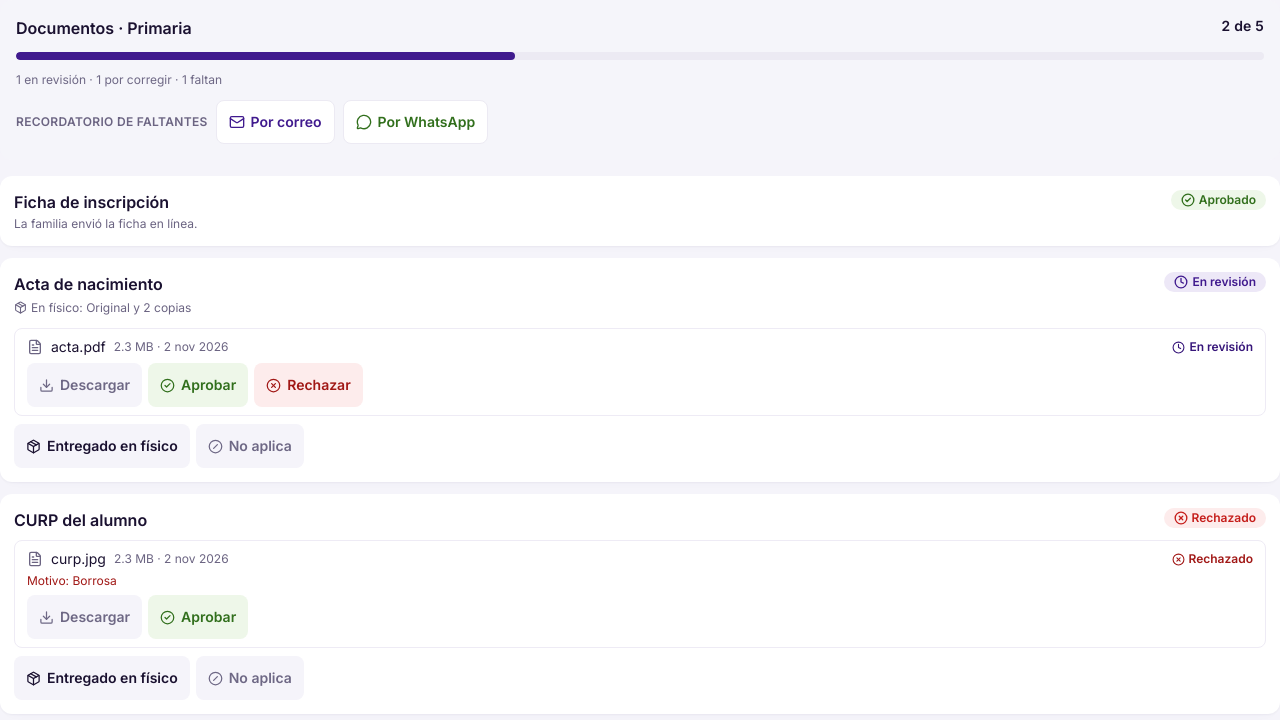
Scenario: DocumentChecklist › prepares the WhatsApp reminder and opens wa.me with the text
Click the button "Por WhatsApp": (415, 122) x1=342 y1=100 x2=488 y2=144
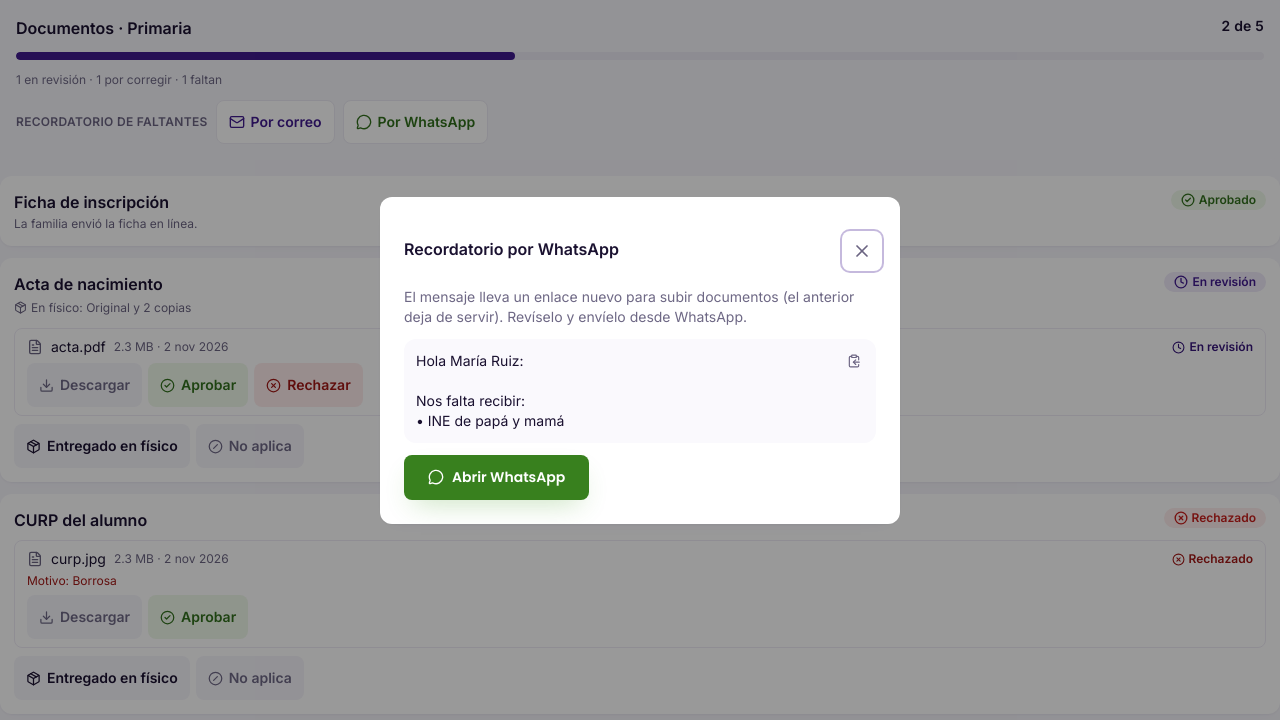
Result: the text "Hola María Ruiz: Nos falta recibir: • INE de papá y mamá" is shown at x1=404 y1=338 x2=876 y2=442
